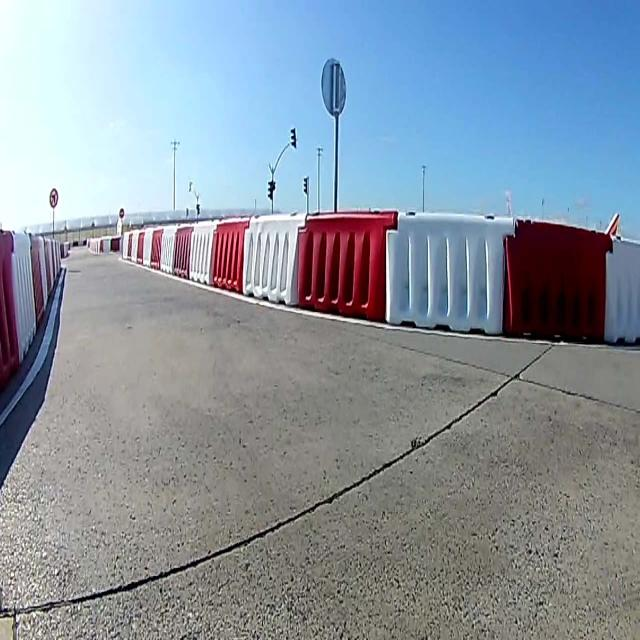soladonulmez: (50, 188, 58, 205)
